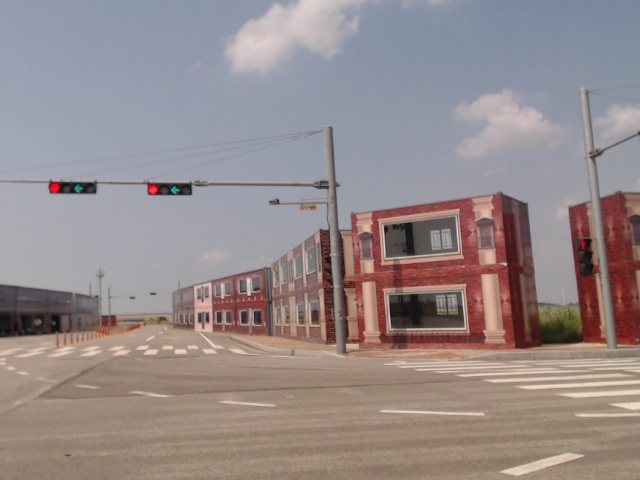left_green_4: (148, 183, 192, 196), (49, 182, 96, 194)
